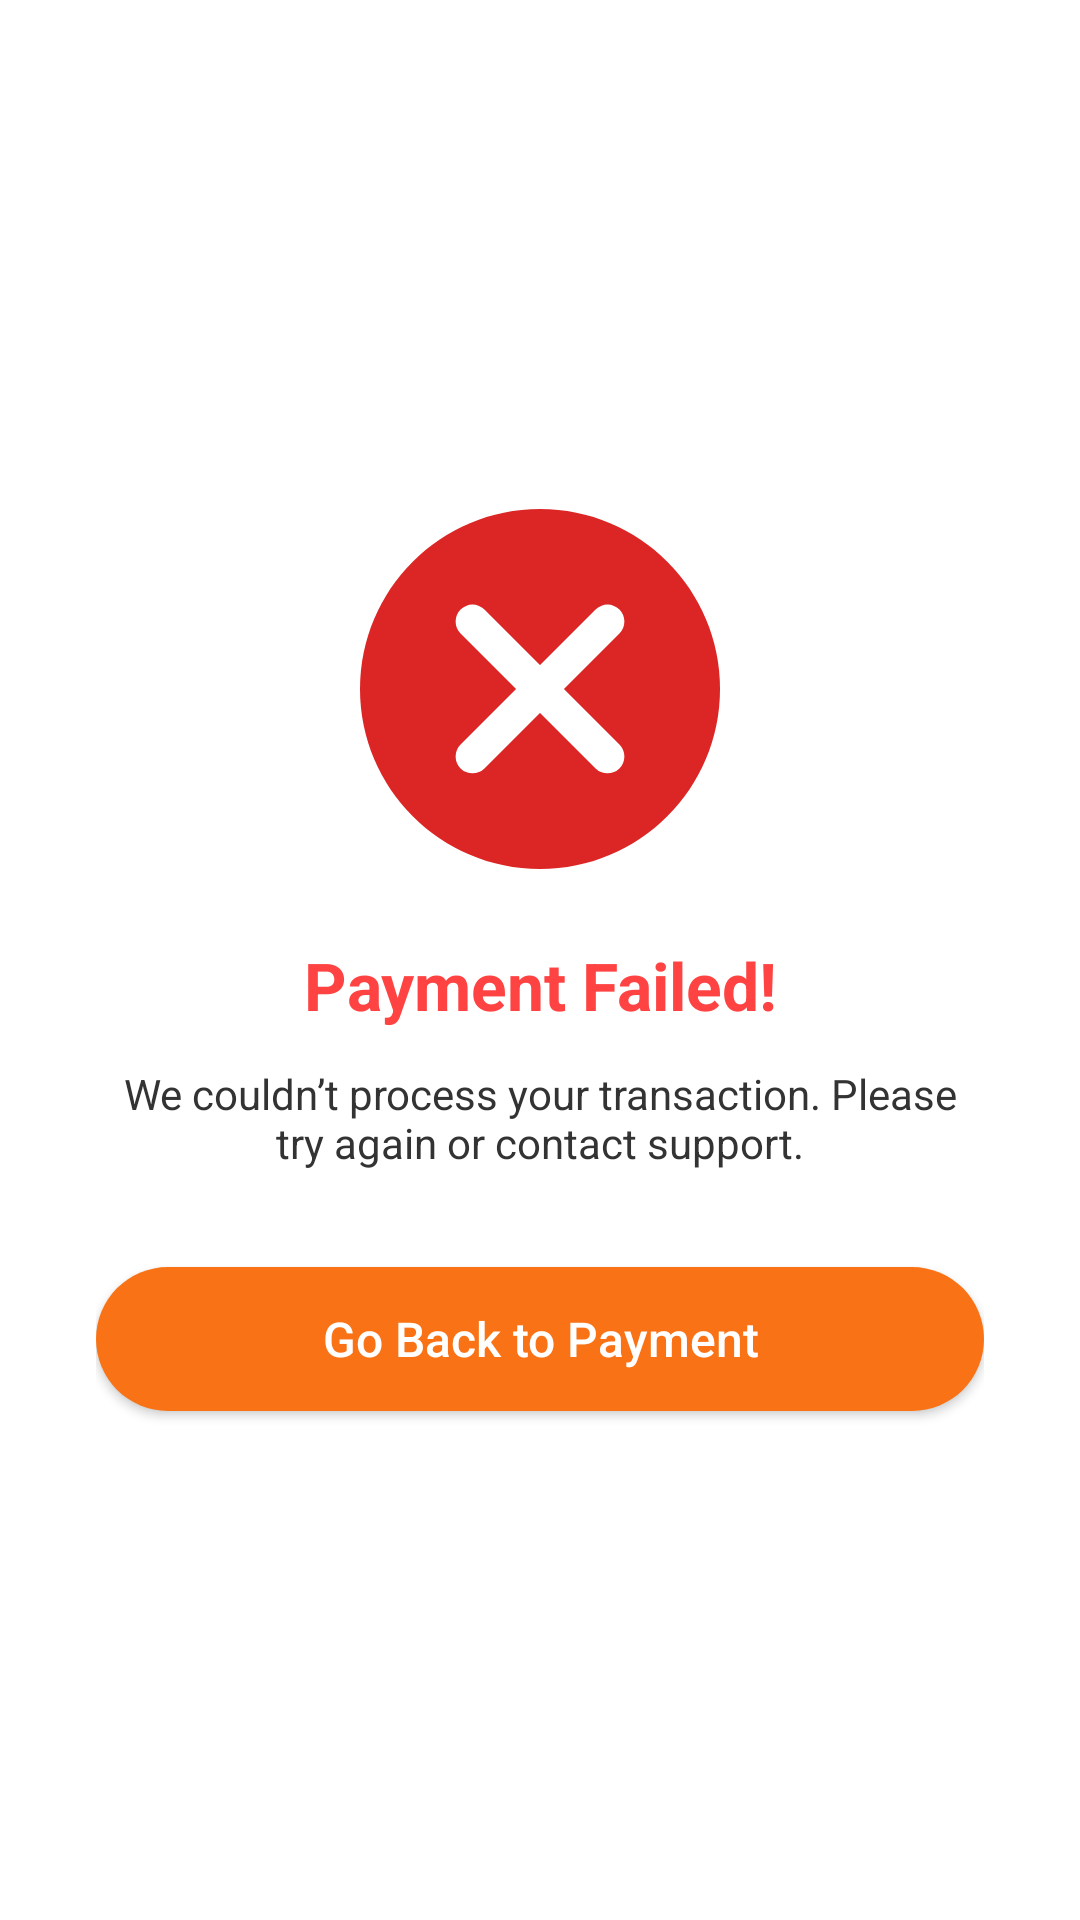

Locate icon controls on the screen. Image size 1080px×1920px, boxes as (x1, y1, x2, y2).
Failure Icon: (360, 509, 720, 869)
